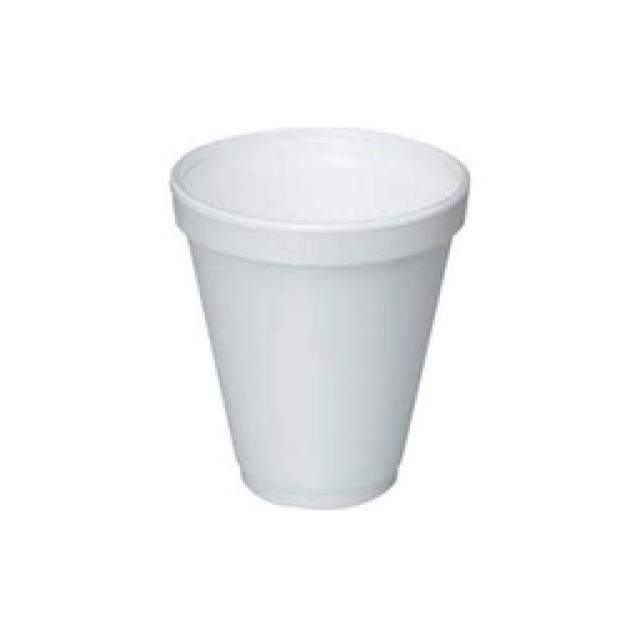styrofoam: (170, 128, 468, 508)
